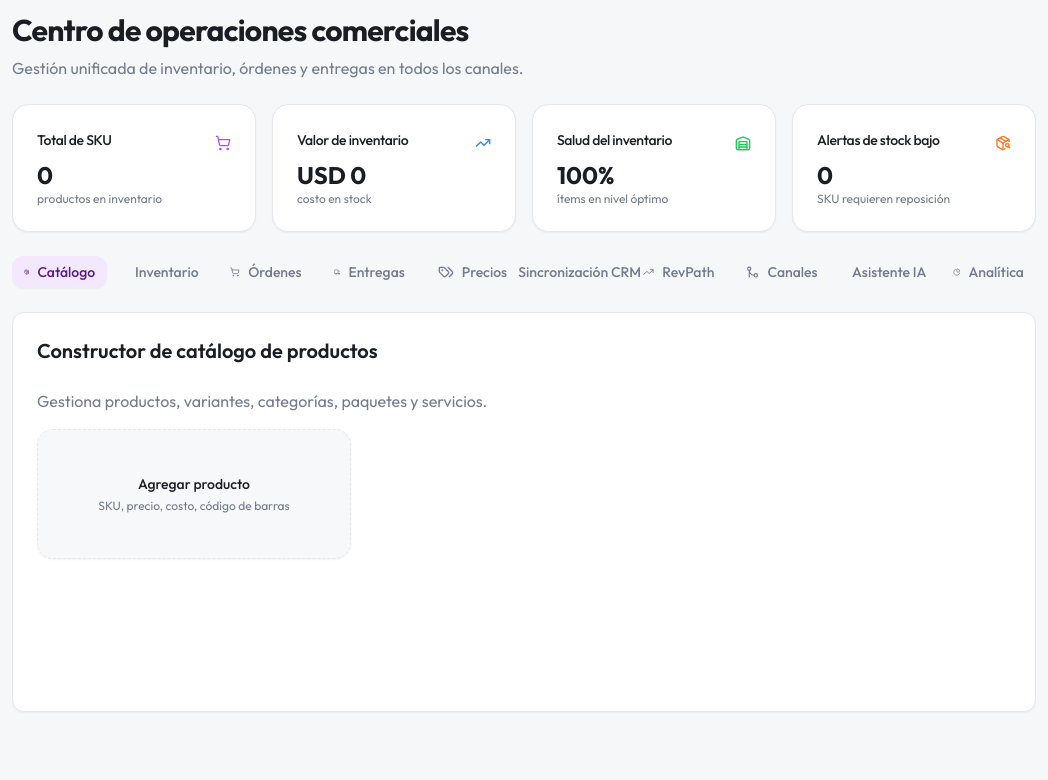
Test: InventoryOrders, in Spanish › lists the stock with translated columns and statuses
Press the mouse on the tab "Inventario" at [163, 272], box [115,256,210,288]
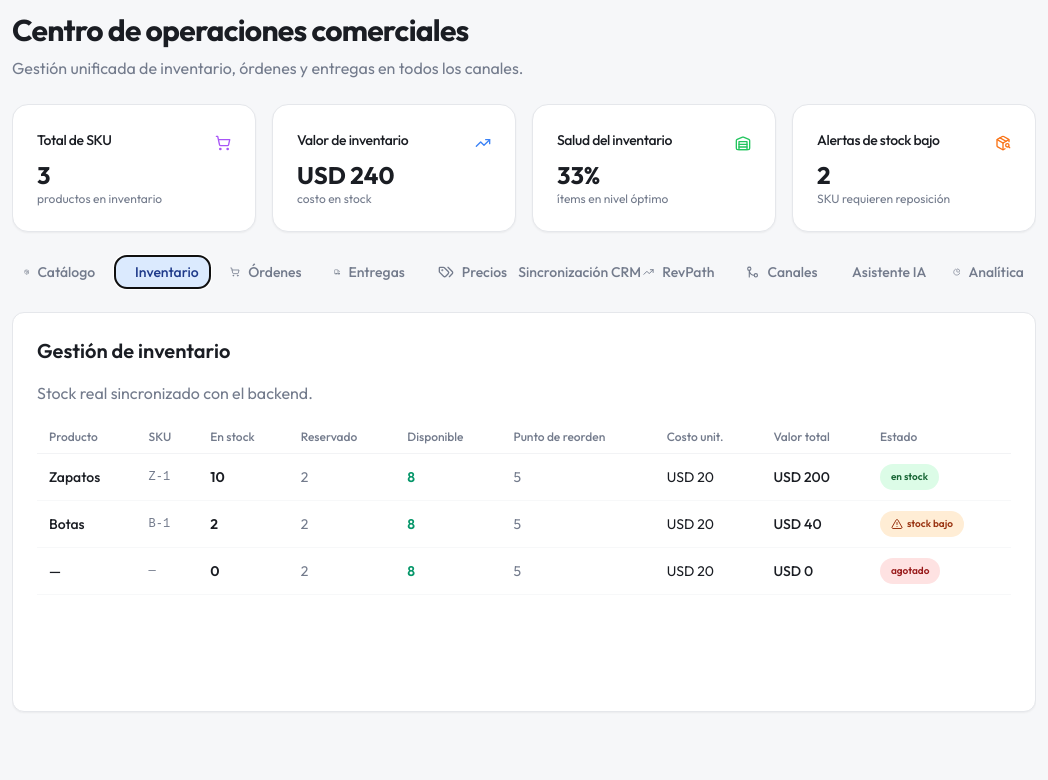
Expected: the text "Zapatos" is shown, [37,454,136,500]
Expected: the column heading "En stock" is shown, [198,421,289,454]
Expected: the column heading "Reservado" is shown, [289,421,395,454]
